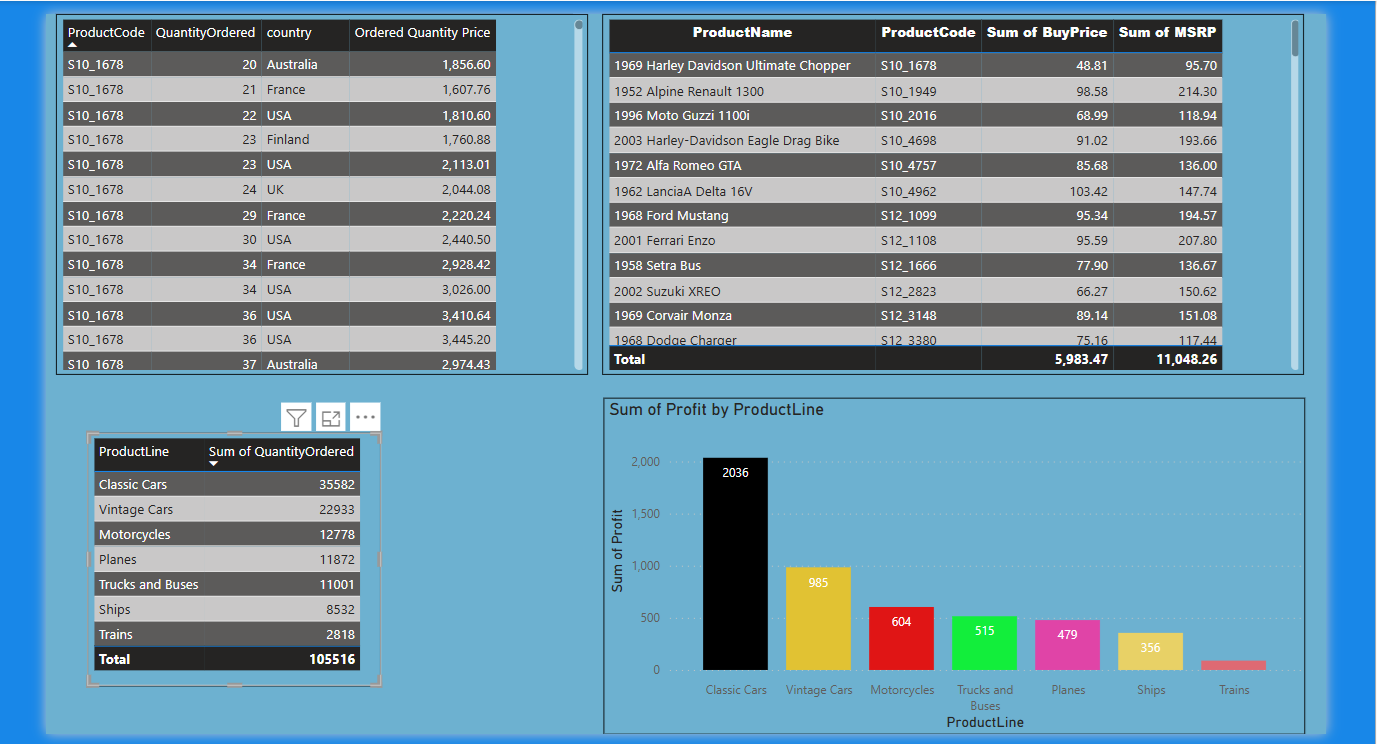

The page's visual inventory and layout, read from the dashboard file:
{"tool":"powerbi","page":{"name":"Products & Quantity","canvas":[1280,720],"ordinal":4},"visuals":[{"type":"tableEx","fields":{"Values":["classicmodels orderdetails.ProductCode","classicmodels orderdetails.QuantityOrdered","classicmodels customers.country","classicmodels orderdetails.Ordered Quantity Price"]},"box":[9.6,0,532,360.6],"z":0},{"type":"tableEx","fields":{"Values":["classicmodels products.ProductName","classicmodels products.ProductCode","Sum(classicmodels products.BuyPrice)","Sum(classicmodels products.MSRP)"]},"box":[556.6,0,702,360.6],"z":1000},{"type":"tableEx","fields":{"Values":["classicmodels products.ProductLine","Sum(classicmodels orderdetails.QuantityOrdered)"]},"box":[41.2,418.8,293.8,253.8],"z":2000},{"type":"clusteredColumnChart","fields":{"Category":["classicmodels products.ProductLine"],"Y":["Sum(classicmodels products.Profit)"]},"box":[557.2,383.5,701.9,336.5],"z":3000}]}

Visuals, with their boxes on the page's 1280x720 design canvas (x1, y1, x2, y2). These are canvas units, not pixel positions in the 1377x744 screenshot, which may show the page scaled, cropped or inside an application window:
tableEx - classicmodels orderdetails.ProductCode x classicmodels orderdetails.QuantityOrdered: detection(10, 0, 542, 361)
tableEx - classicmodels products.ProductName x classicmodels products.ProductCode: detection(557, 0, 1259, 361)
tableEx - classicmodels products.ProductLine x Sum(classicmodels orderdetails.QuantityOrdered): detection(41, 419, 335, 673)
clusteredColumnChart - classicmodels products.ProductLine x Sum(classicmodels products.Profit): detection(557, 384, 1259, 720)
